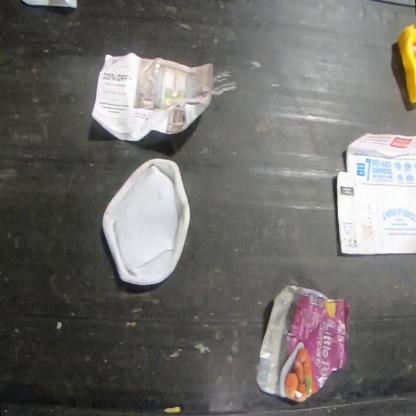cardboard: (336, 132, 416, 256)
rigid_plastic: (101, 160, 191, 286), (398, 22, 415, 104)
soft_plastic: (255, 286, 349, 402)
